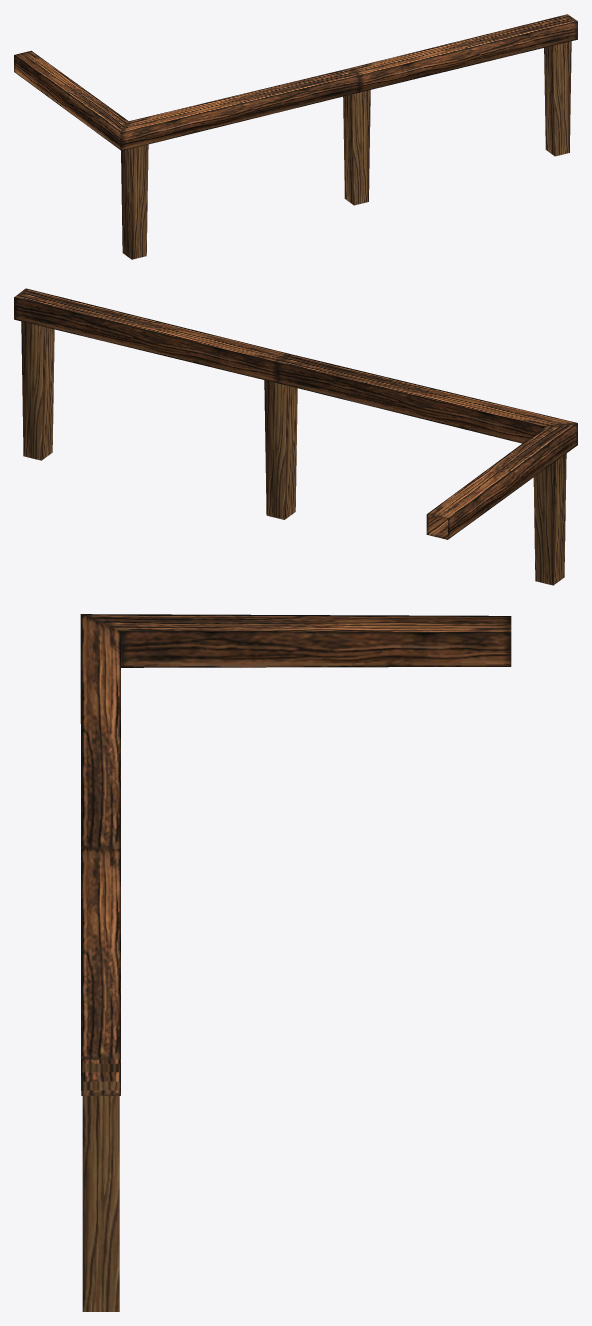
The model's file is LAKETOWN_EXTERIOR_PS_LT_HANDRAILS74746__GX.fbx.
3 renders of one model, top to bottom at view 1: azimuth 30°, elevation 25°; view 2: azimuth 150°, elevation 25°; view 3: azimuth 270°, elevation 25°, orthographic. The views are drawn at different scales.
Parts seen in each view (by area): view 1: LAKETOWN_EXTERIOR_PS_LT_HANDRAILS74746__GX; view 2: LAKETOWN_EXTERIOR_PS_LT_HANDRAILS74746__GX; view 3: LAKETOWN_EXTERIOR_PS_LT_HANDRAILS74746__GX.
Boxes of the visible parts, x1,y1,x2,y2 form: LAKETOWN_EXTERIOR_PS_LT_HANDRAILS74746__GX: (14, 14, 577, 259); LAKETOWN_EXTERIOR_PS_LT_HANDRAILS74746__GX: (14, 288, 577, 585); LAKETOWN_EXTERIOR_PS_LT_HANDRAILS74746__GX: (80, 614, 511, 1311).
Size of the model in its own units: 35934 by 9772 by 14672.
Materials: 2 (2 with a texture image).
